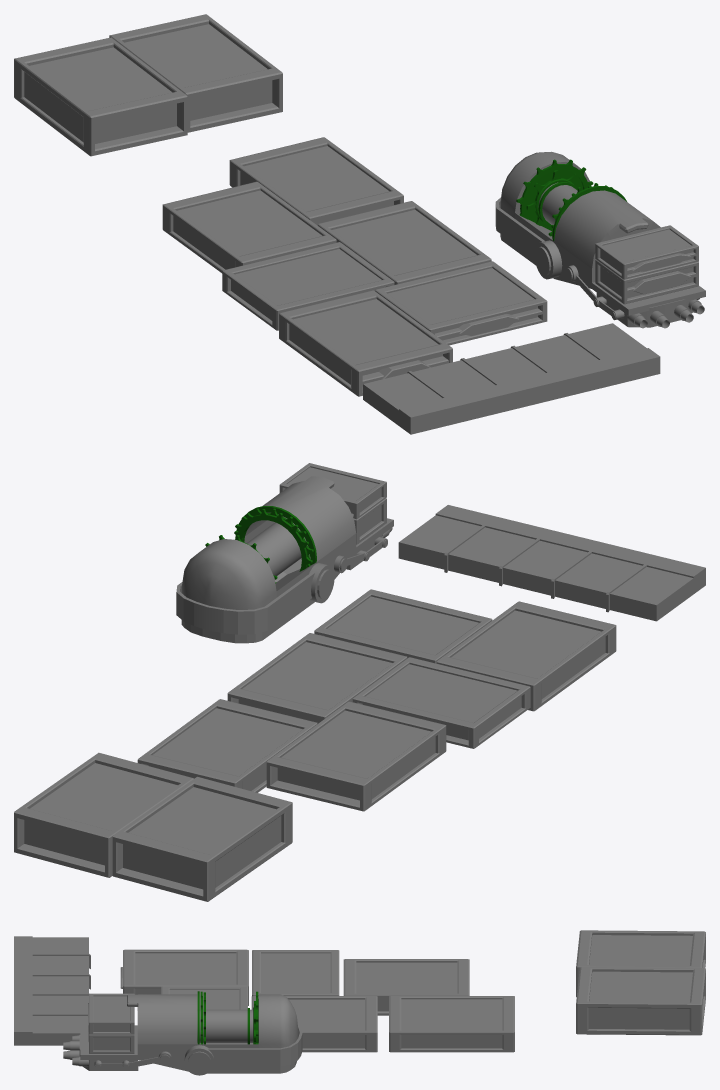
File: Trains.obj
3 renders of one model, top to bottom at view 1: azimuth 30°, elevation 25°; view 2: azimuth 150°, elevation 25°; view 3: azimuth 270°, elevation 25°, orthographic. The views are drawn at different scales.
Visible parts, largest first — view 1: Player_Train Boxes, Player_Train, Box_Tall_Car Player_Train, Player_Train Box_Tall_Car2, Train_on_Right_Car, Train_on_Right_Car Top_Box, Train_on_Right_Car Bottom_Box, Train_on_Right_Car Train_Gears_Bottom, Train_on_Right_Car Slam_Bar, Train_on_Right_Car Right_Train_Boosters, Train_on_Right_Car Big_Gear_Front, Train_on_Right_Car Booster_Holders (+1 smaller); view 2: Player_Train Boxes, Player_Train, Box_Tall_Car Player_Train, Player_Train Box_Tall_Car2, Train_on_Right_Car, Train_on_Right_Car Slam_Bar, Train_on_Right_Car Top_Box, Train_on_Right_Car Train_Shaft, Train_on_Right_Car Train_Gears_Bottom, Train_on_Right_Car Big_Gear_2, Train_on_Right_Car Bottom_Box; view 3: Player_Train Boxes, Player_Train Box_Tall_Car2, Player_Train, Train_on_Right_Car, Box_Tall_Car Player_Train, Train_on_Right_Car Top_Box, Train_on_Right_Car Slam_Bar, Train_on_Right_Car Train_Shaft, Train_on_Right_Car Train_Gears_Bottom, Train_on_Right_Car Bottom_Box, Train_on_Right_Car Right_Train_Boosters, Train_on_Right_Car Booster_Holders.
Boxes of the visible parts, box(x1,y1,x2,y2) form: Player_Train Boxes: box(162, 137, 547, 396); Player_Train: box(363, 323, 660, 434); Box_Tall_Car Player_Train: box(14, 37, 187, 156); Player_Train Box_Tall_Car2: box(109, 14, 282, 132); Train_on_Right_Car: box(500, 151, 705, 315); Train_on_Right_Car Top_Box: box(595, 225, 698, 279); Train_on_Right_Car Bottom_Box: box(595, 259, 698, 304); Train_on_Right_Car Train_Gears_Bottom: box(534, 240, 699, 320); Train_on_Right_Car Slam_Bar: box(495, 197, 544, 258); Train_on_Right_Car Right_Train_Boosters: box(627, 299, 704, 328); Train_on_Right_Car Big_Gear_Front: box(516, 159, 593, 219); Train_on_Right_Car Booster_Holders: box(596, 293, 692, 327); Player_Train Boxes: box(137, 589, 616, 811); Player_Train: box(398, 505, 705, 621); Box_Tall_Car Player_Train: box(112, 776, 292, 901); Player_Train Box_Tall_Car2: box(14, 752, 193, 877); Train_on_Right_Car: box(181, 476, 393, 643); Train_on_Right_Car Slam_Bar: box(176, 572, 314, 634); Train_on_Right_Car Top_Box: box(279, 463, 386, 519); Train_on_Right_Car Train_Shaft: box(246, 516, 308, 575); Train_on_Right_Car Train_Gears_Bottom: box(309, 537, 387, 603); Train_on_Right_Car Big_Gear_2: box(235, 509, 312, 571); Train_on_Right_Car Bottom_Box: box(354, 498, 386, 544); Player_Train Boxes: box(120, 949, 514, 1052); Player_Train Box_Tall_Car2: box(576, 967, 705, 1035); Player_Train: box(14, 936, 90, 1045); Train_on_Right_Car: box(80, 994, 298, 1073); Box_Tall_Car Player_Train: box(576, 930, 705, 996); Train_on_Right_Car Top_Box: box(88, 993, 134, 1034); Train_on_Right_Car Slam_Bar: box(208, 1023, 302, 1066); Train_on_Right_Car Train_Shaft: box(197, 1009, 258, 1043); Train_on_Right_Car Train_Gears_Bottom: box(94, 1045, 214, 1075); Train_on_Right_Car Bottom_Box: box(88, 1025, 134, 1053); Train_on_Right_Car Right_Train_Boosters: box(63, 1034, 88, 1066); Train_on_Right_Car Booster_Holders: box(79, 1036, 138, 1070).
Bounding box in the file's own units: 23.18 × 6.74 × 50.74.
